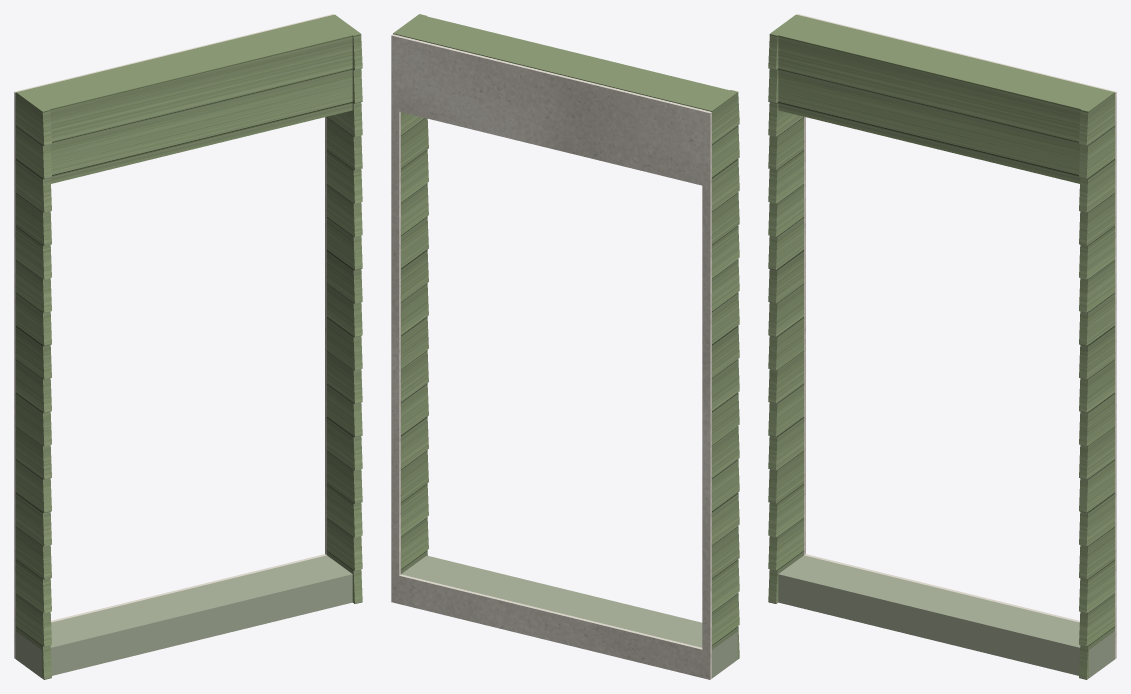
File: f_u_bay_b.glb
3 renders of one model, left to right at view 1: azimuth 30°, elevation 25°; view 2: azimuth 150°, elevation 25°; view 3: azimuth 330°, elevation 25°, orthographic.
Parts seen in each view (by area): view 1: f_u_bay_b_siding_b, f_u_bay_b_acc_b, f_u_bay_b_plaster; view 2: f_u_bay_b_plaster, f_u_bay_b_siding_b, f_u_bay_b_acc_b; view 3: f_u_bay_b_siding_b, f_u_bay_b_acc_b, f_u_bay_b_plaster.
Boxes of the visible parts, x1=… form: f_u_bay_b_siding_b: x1=16, y1=14, x2=362, y2=679; f_u_bay_b_acc_b: x1=16, y1=555, x2=352, y2=677; f_u_bay_b_plaster: x1=14, y1=14, x2=333, y2=658; f_u_bay_b_plaster: x1=391, y1=34, x2=711, y2=679; f_u_bay_b_siding_b: x1=393, y1=14, x2=739, y2=659; f_u_bay_b_acc_b: x1=401, y1=555, x2=737, y2=678; f_u_bay_b_siding_b: x1=768, y1=14, x2=1114, y2=679; f_u_bay_b_acc_b: x1=778, y1=555, x2=1114, y2=677; f_u_bay_b_plaster: x1=797, y1=14, x2=1116, y2=658.
Bounding box in the file's own units: 2 × 3.4 × 0.324.
3 materials, 2 textured.
